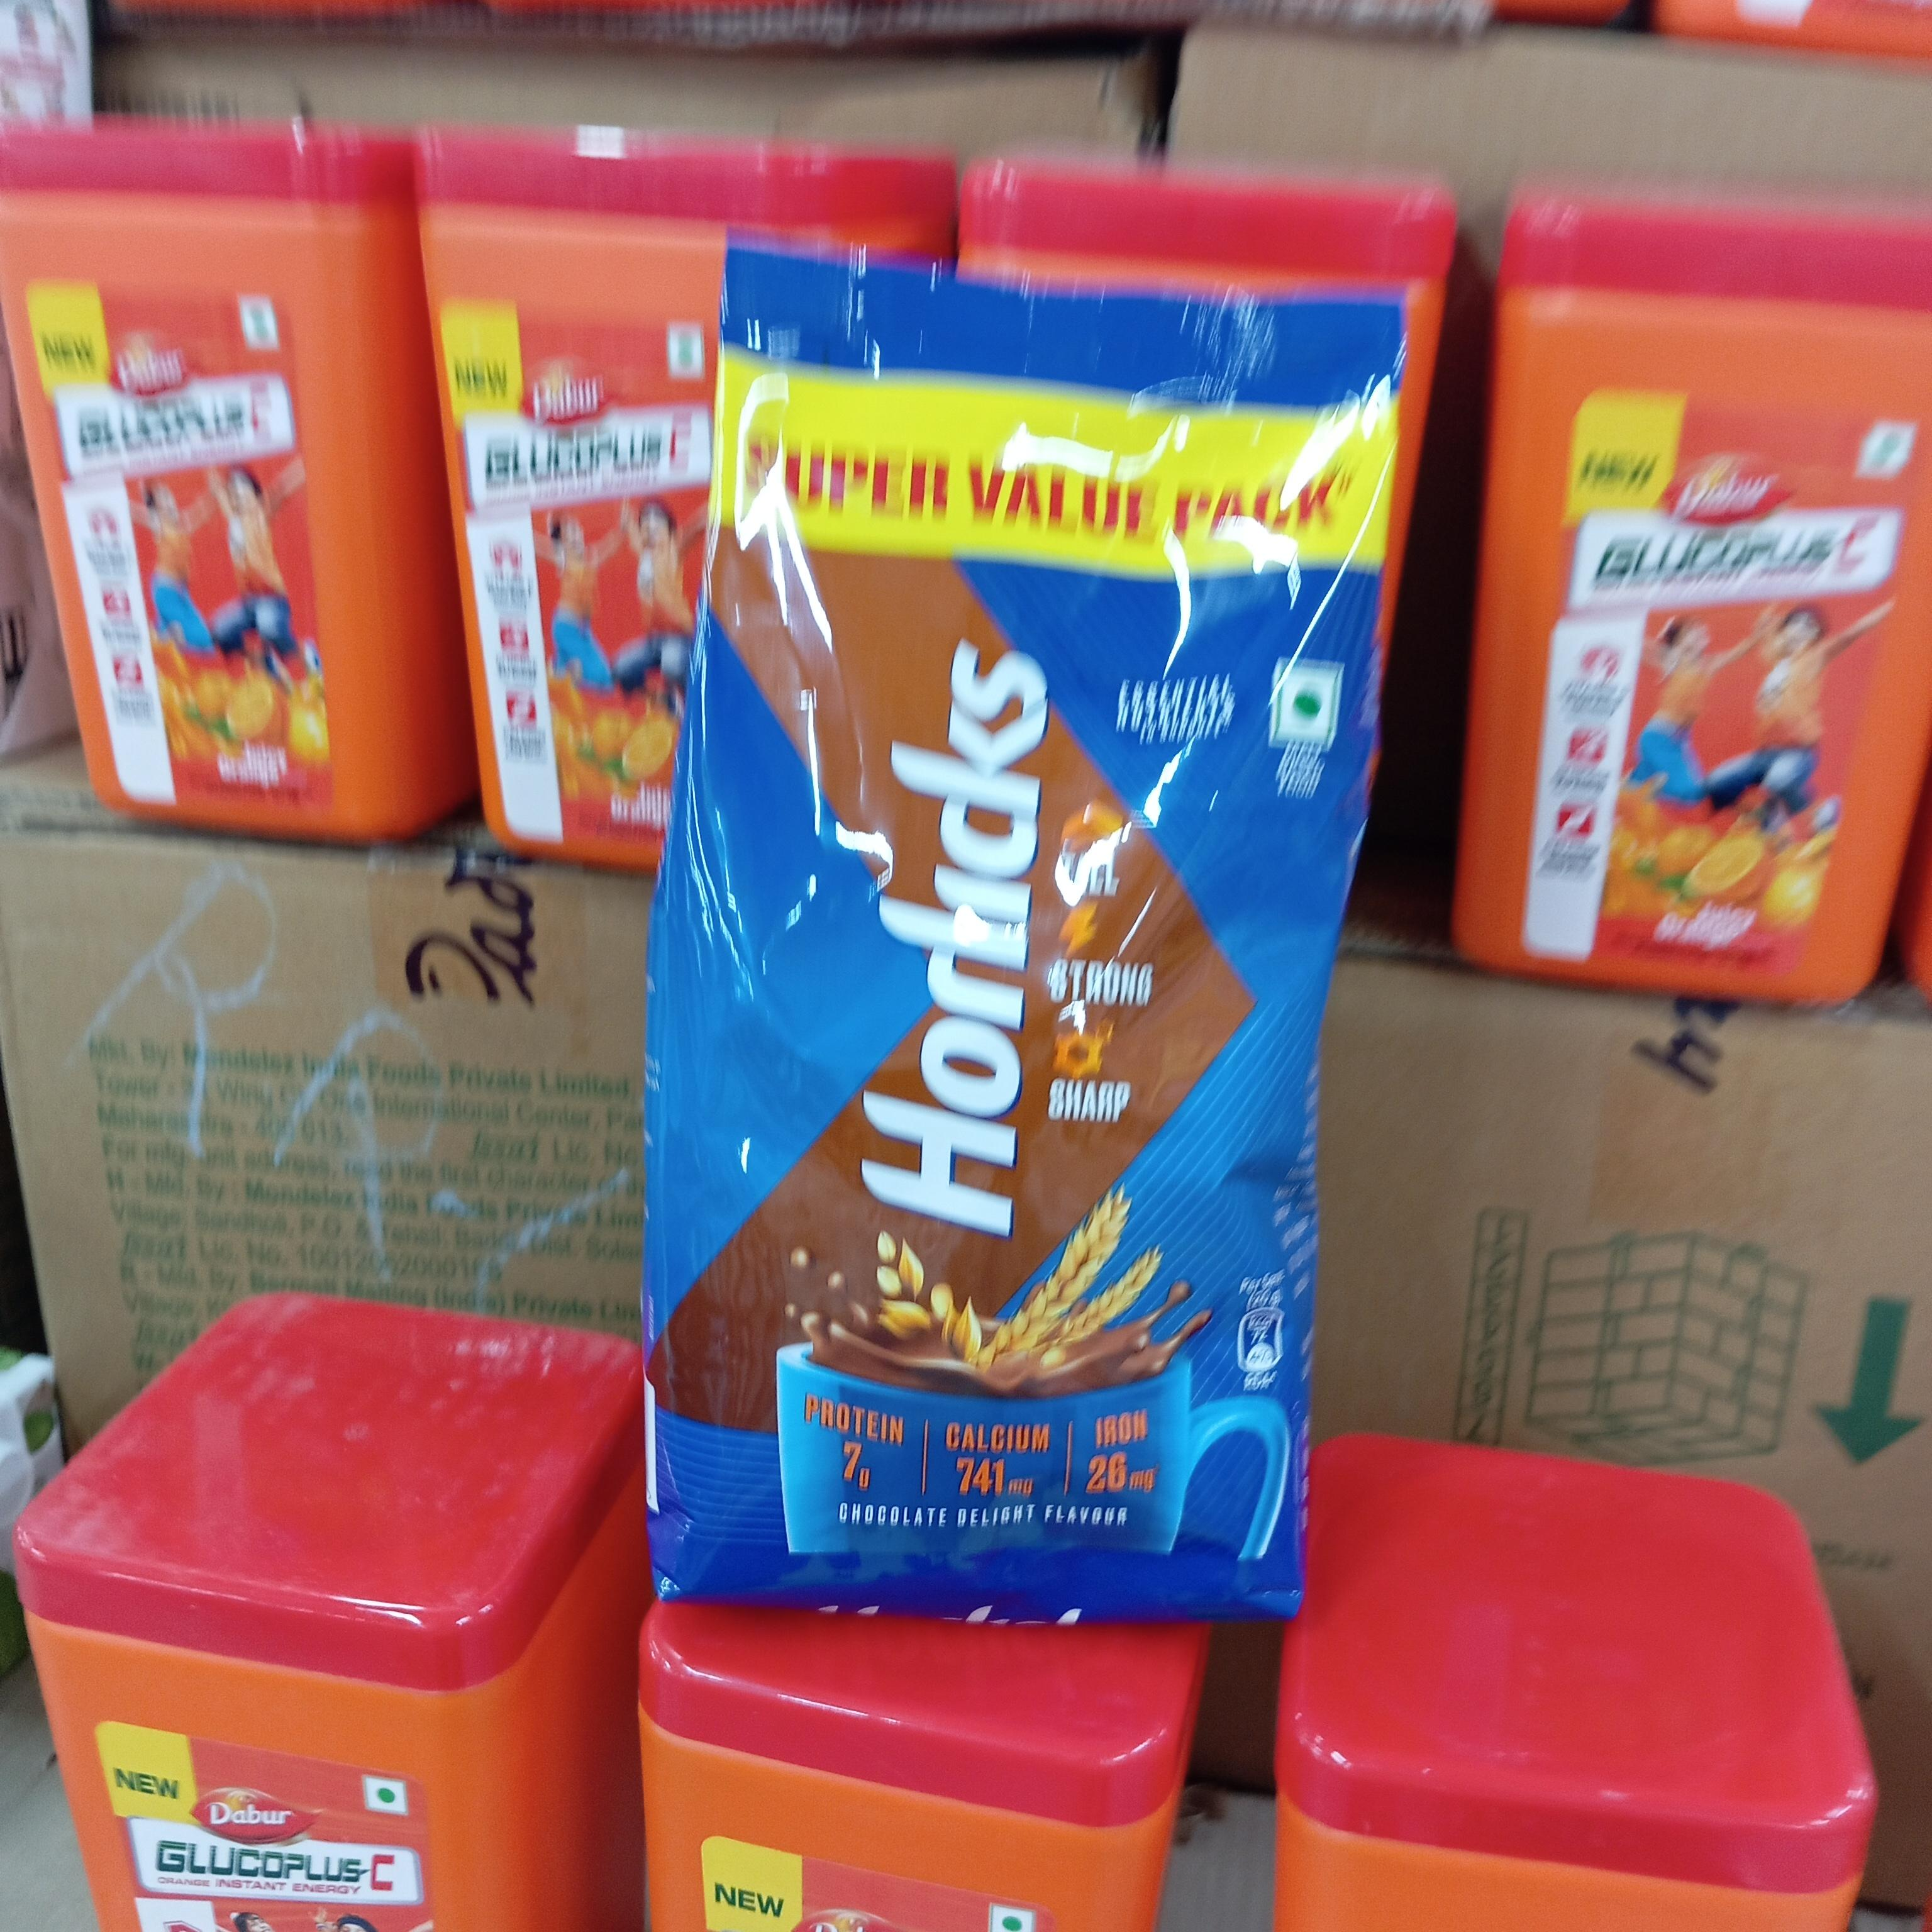HORLICK_CHOCOLATE_750_G_POUCH: (672, 226, 1320, 1622)
